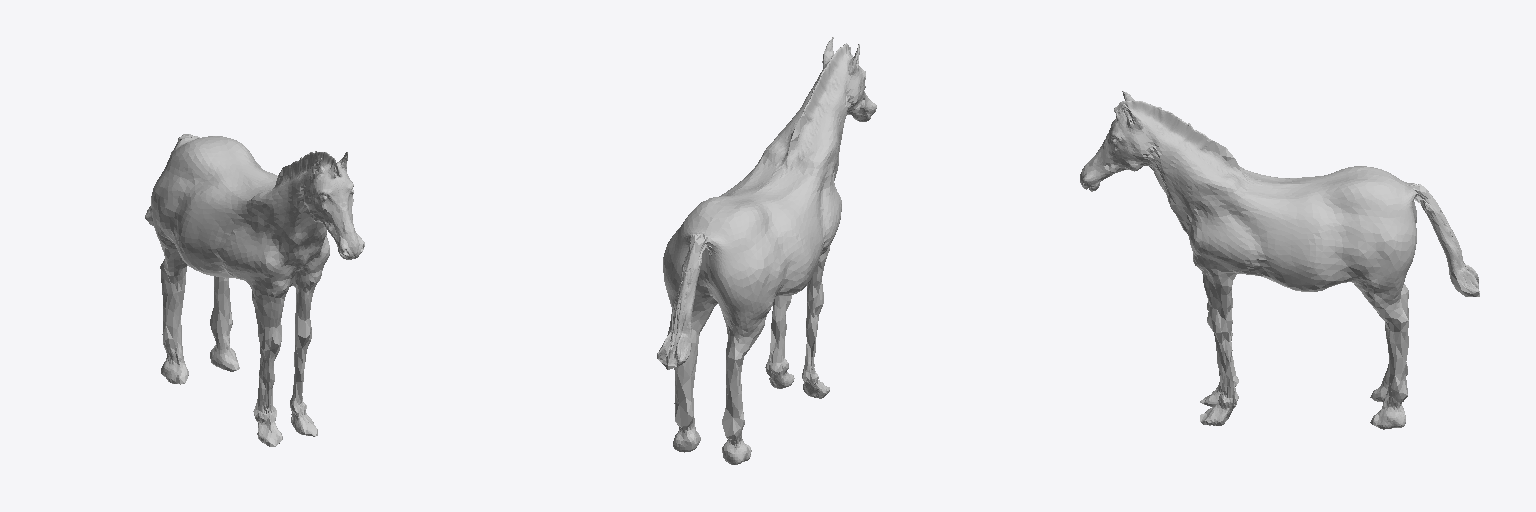
Rendered from kon.obj.
3 views of the same model, side by side, from view 1: azimuth 30°, elevation 25°; view 2: azimuth 150°, elevation 25°; view 3: azimuth 270°, elevation 25° (orthographic).
Bounding box in the file's own units: 1.27 × 3.31 × 3.8.